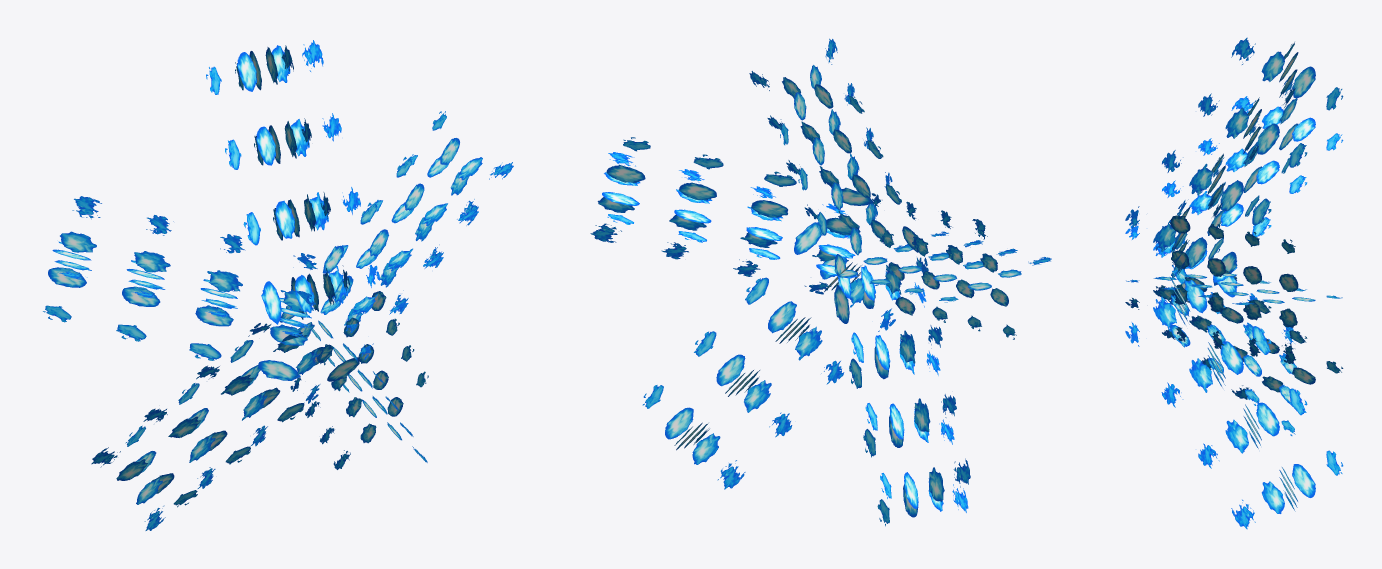
The model's file is eff_bem001_mesh.fbx.
The picture shows the model from 3 angles, left to right: view 1: azimuth 30°, elevation 25°; view 2: azimuth 150°, elevation 25°; view 3: azimuth 270°, elevation 25°; orthographic projection. The views are drawn at different scales.
Parts seen in each view (by area): view 1: eff_bem001_mesh; view 2: eff_bem001_mesh; view 3: eff_bem001_mesh.
Part boxes in pixels (bbox=[...]): eff_bem001_mesh: bbox=[43, 40, 513, 530]; eff_bem001_mesh: bbox=[590, 38, 1051, 526]; eff_bem001_mesh: bbox=[1125, 37, 1343, 529].
Bounding box in the file's own units: 283 × 276 × 138.
